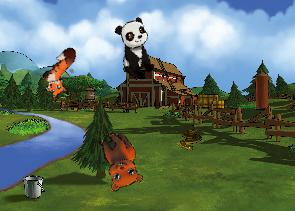bear: (85, 126, 150, 196)
fox: (32, 44, 93, 105)
panda: (112, 16, 159, 82)
